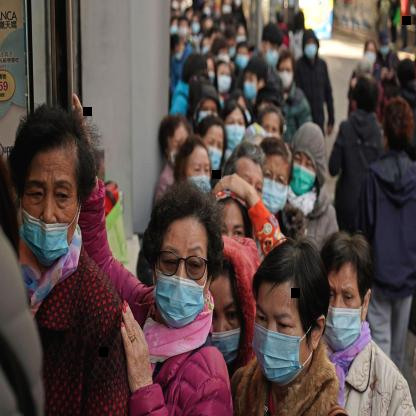mask: (11, 100, 86, 266), (250, 240, 329, 388), (147, 183, 215, 329), (207, 237, 253, 371), (322, 232, 372, 353), (290, 124, 324, 205), (257, 134, 290, 214), (199, 114, 226, 176), (224, 102, 246, 151), (244, 56, 263, 100), (276, 50, 295, 88), (215, 61, 232, 92), (302, 33, 320, 62), (236, 42, 250, 68), (191, 14, 200, 34)
